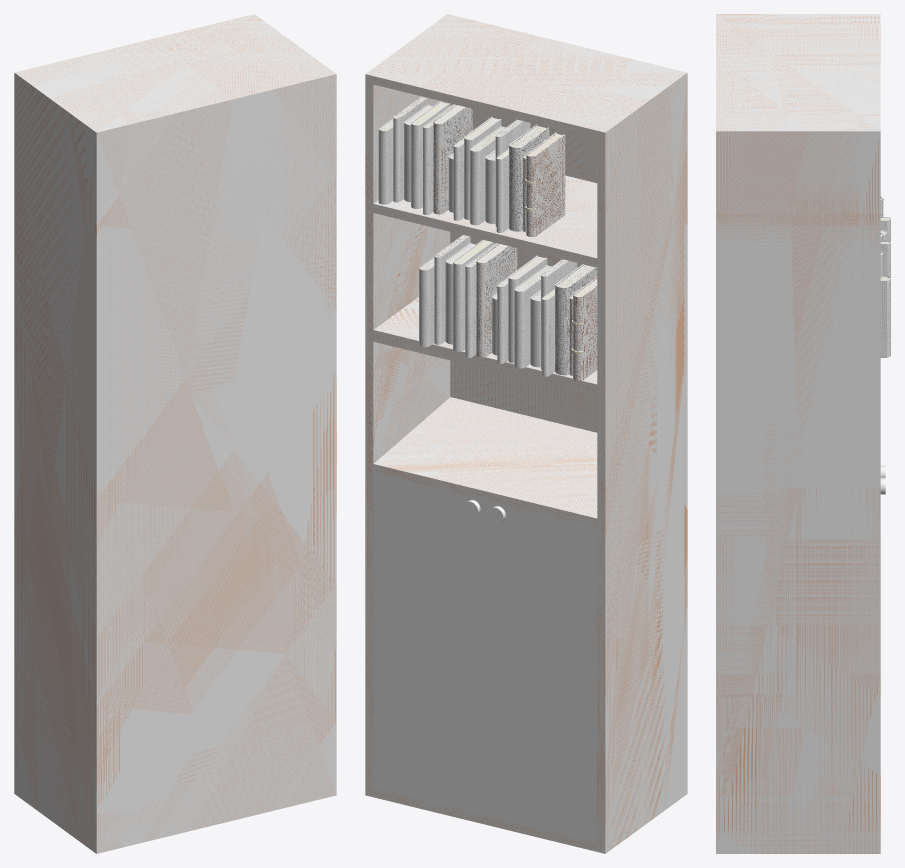
3 renders of one model, left to right at view 1: azimuth 30°, elevation 25°; view 2: azimuth 150°, elevation 25°; view 3: azimuth 270°, elevation 25°, orthographic.
Parts seen in each view (by area): view 1: mesh28_mesh28-geometry; view 2: mesh28_mesh28-geometry, mesh1_mesh1-geometry; view 3: mesh28_mesh28-geometry, mesh1_mesh1-geometry.
Boxes of the visible parts, x1,y1,x2,y2 form: mesh28_mesh28-geometry: [14, 14, 336, 853]; mesh28_mesh28-geometry: [365, 14, 687, 853]; mesh1_mesh1-geometry: [378, 96, 597, 380]; mesh28_mesh28-geometry: [716, 14, 885, 853]; mesh1_mesh1-geometry: [880, 196, 890, 357].
Bounding box in the file's own units: 0.3222 × 0.9247 × 0.2028.
